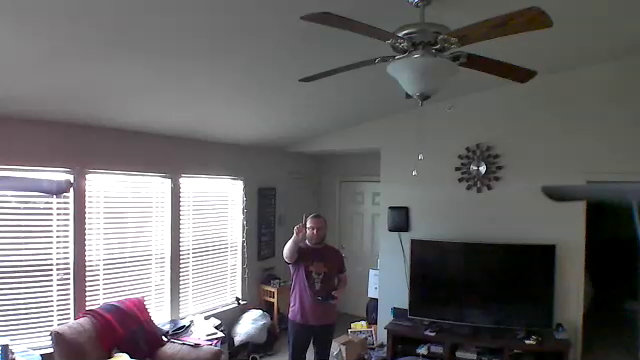up: (288, 212, 310, 244)
